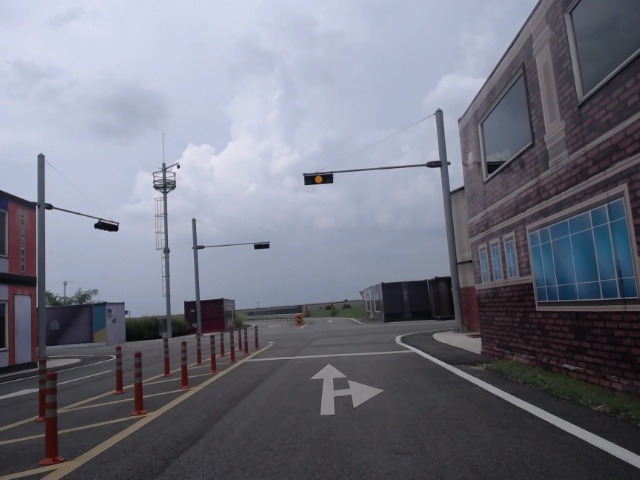orange_3: (304, 173, 333, 184)
